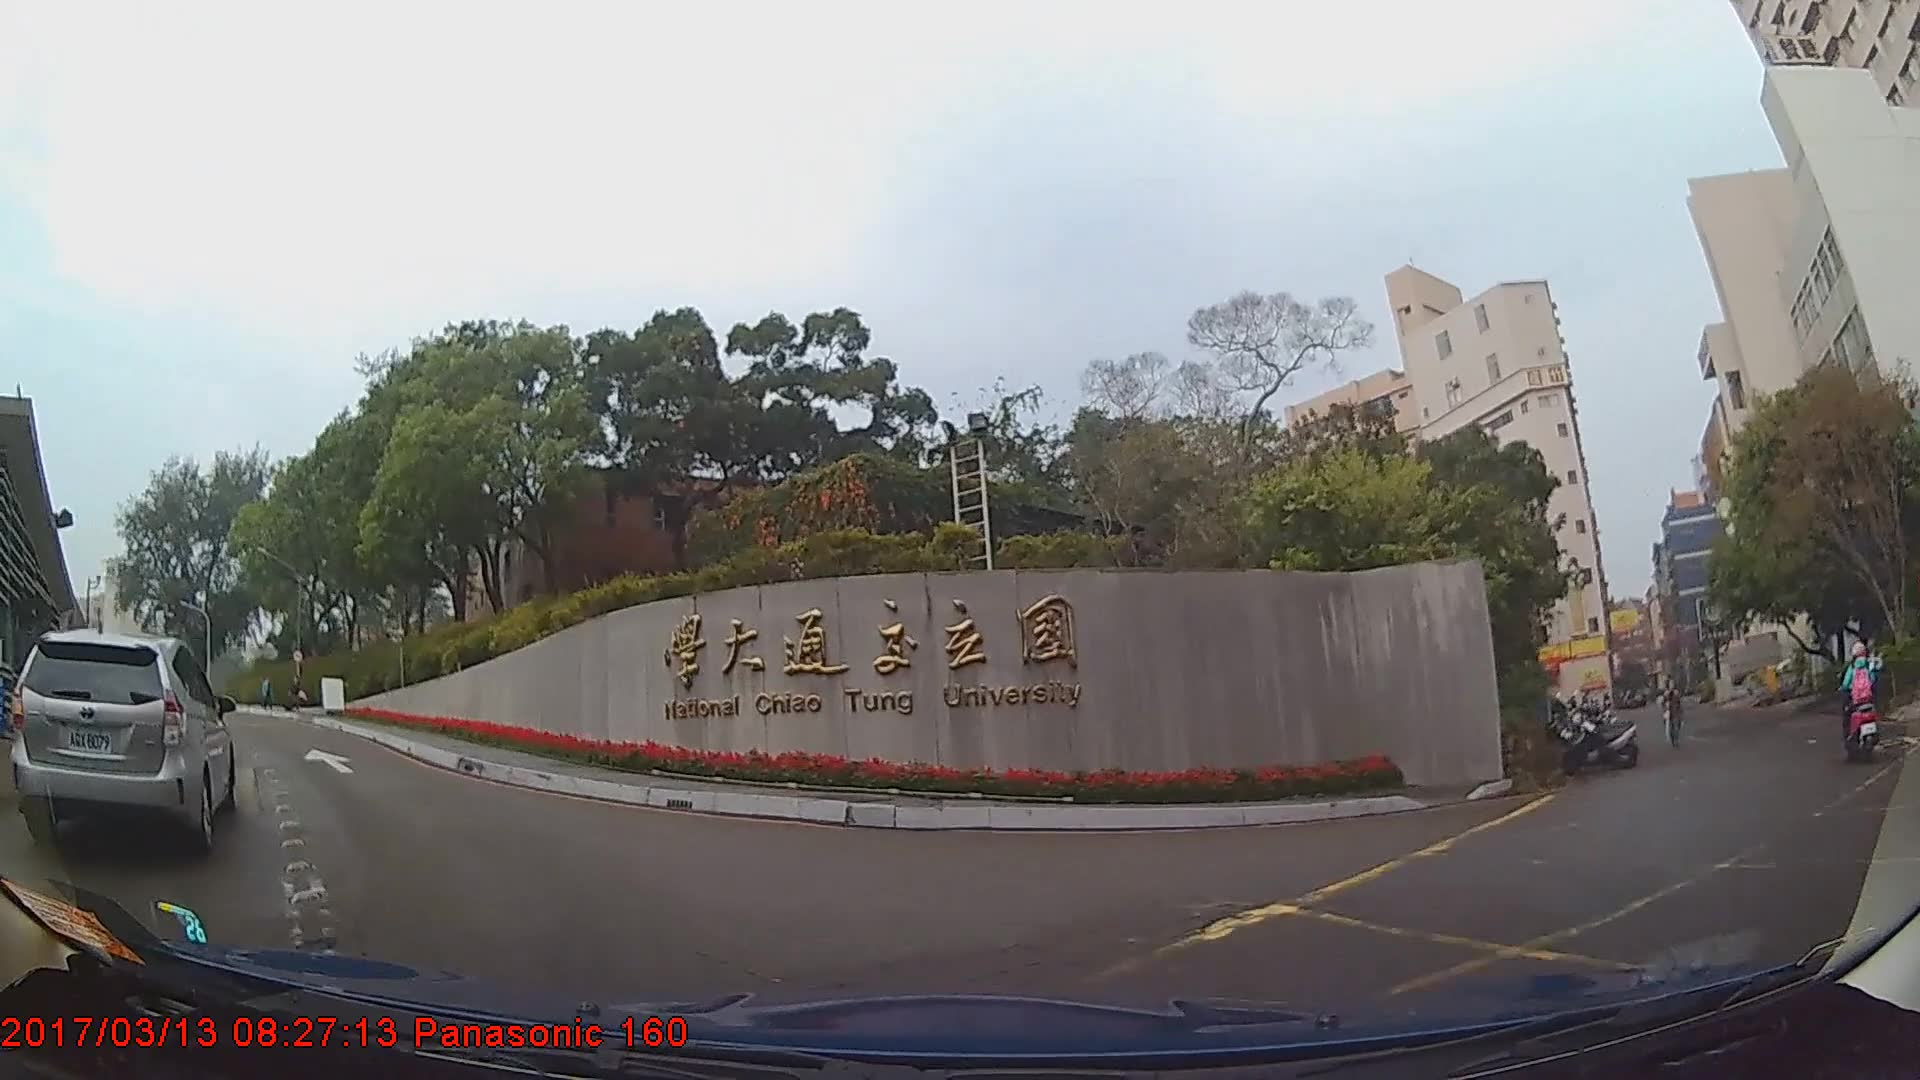pedestrian: (1662, 682, 1686, 749)
rider: (1839, 643, 1884, 766)
vehicle: (10, 627, 234, 856)
